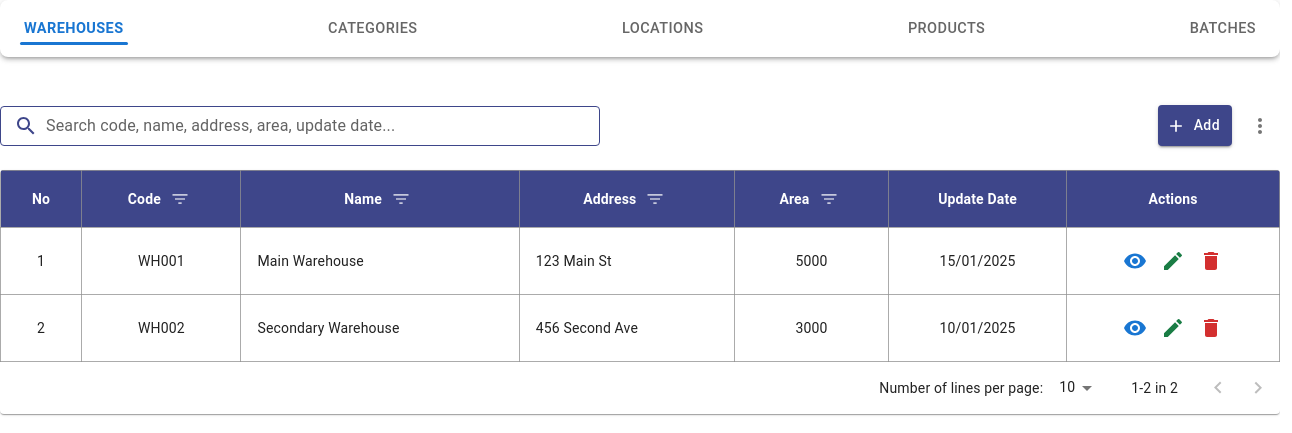
Warehouse Page - Integration Tests › Happy Path - Menu Navigation › switches to locations menu and displays locations
Click the button "Locations" at x=663, y=29, box x1=606 y1=8 x2=719 y2=49
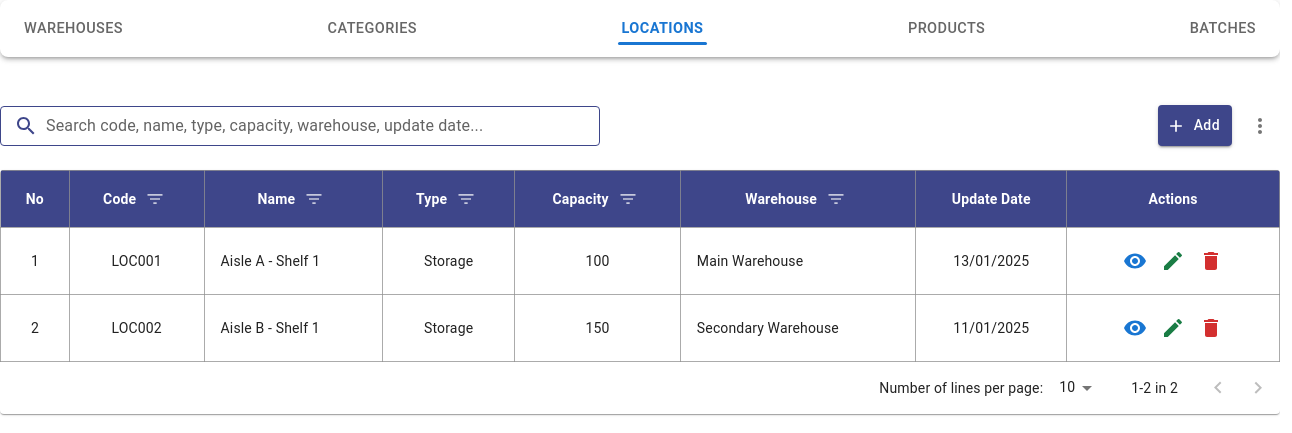
Now the text "Aisle A - Shelf 1" is shown, box x1=204 y1=227 x2=383 y2=294
Now the text "Aisle B - Shelf 1" is shown, box x1=204 y1=294 x2=383 y2=361
